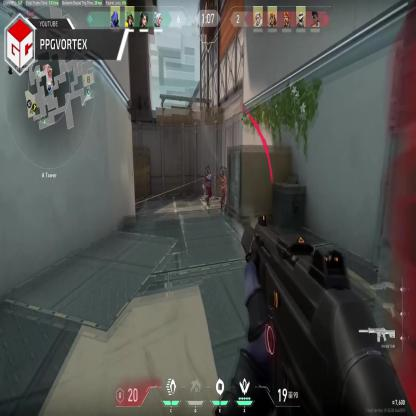enemy: (205, 166, 212, 205), (220, 168, 227, 207), (237, 191, 237, 191)
enemy_head: (221, 168, 226, 177), (206, 167, 210, 175)
